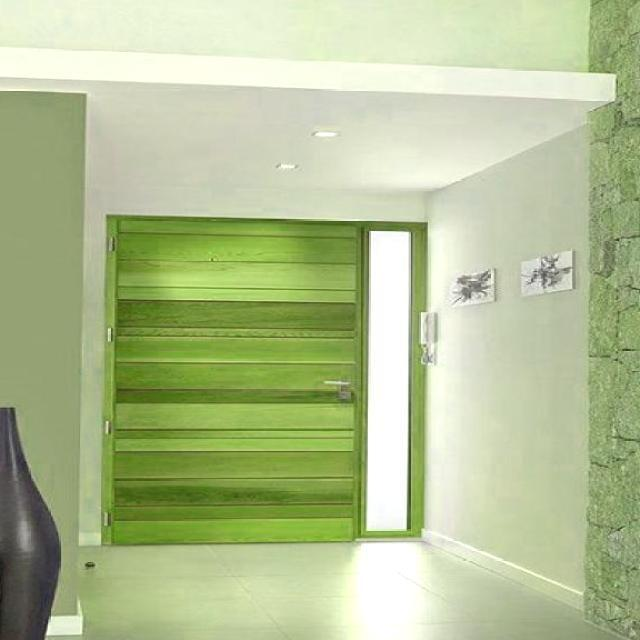door: (100, 213, 361, 542)
